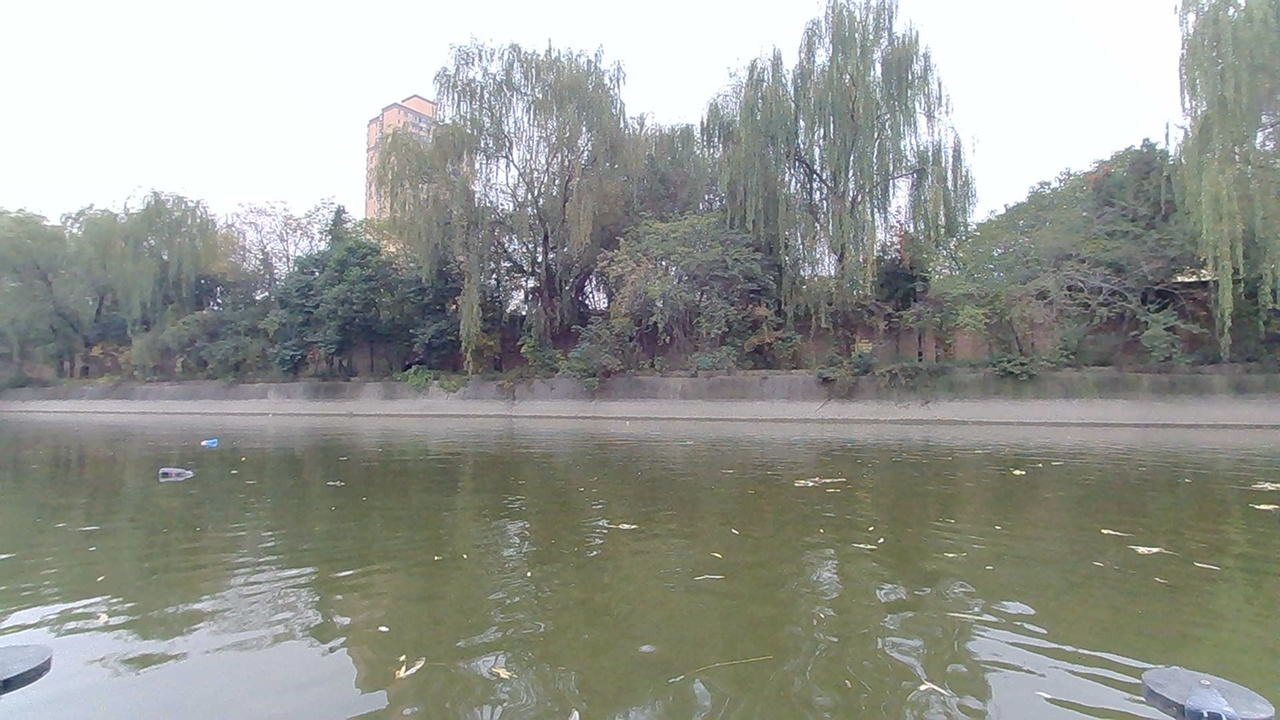bottle: (157, 453, 201, 481), (197, 428, 230, 452)
